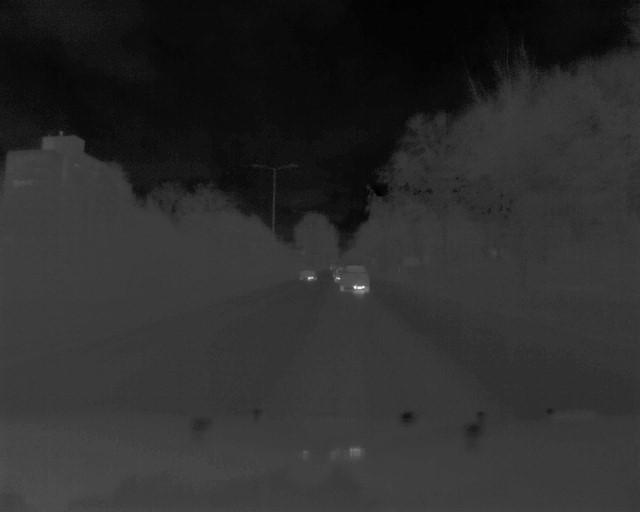car: (336, 261, 373, 296)
